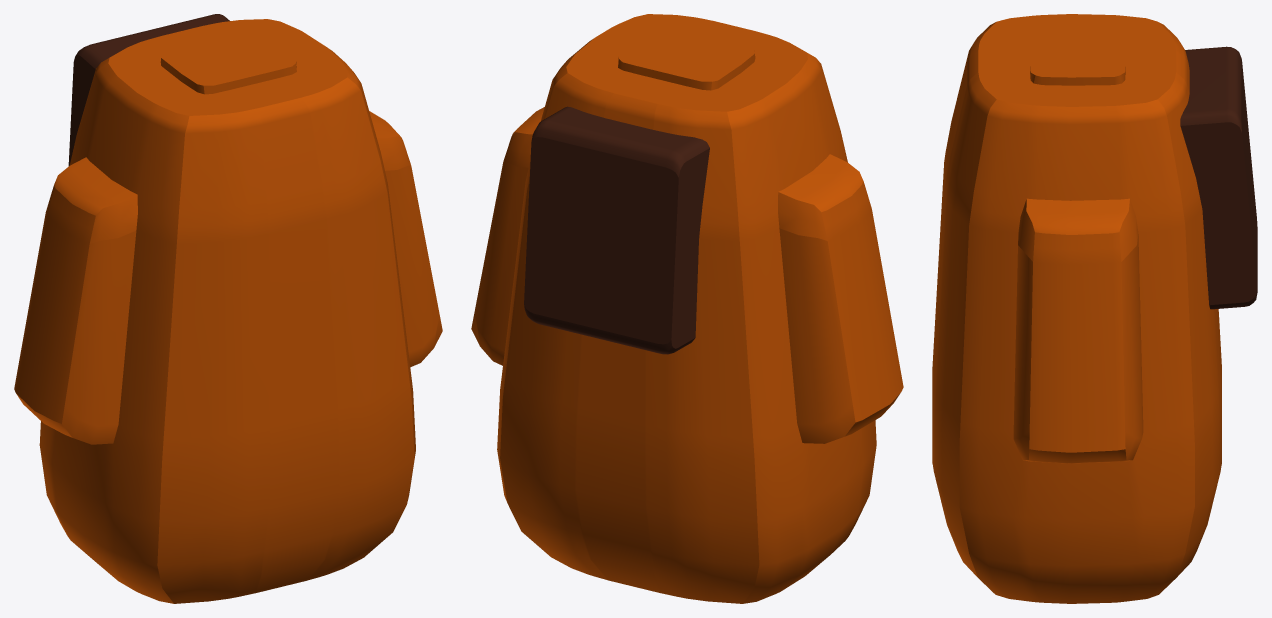
File: evilBroskiBody02.fbx
3 views of the same model, side by side, from view 1: azimuth 30°, elevation 25°; view 2: azimuth 150°, elevation 25°; view 3: azimuth 270°, elevation 25° (orthographic).
Parts seen in each view (by area): view 1: evilBroskiBody, evilBroskiBackpack; view 2: evilBroskiBody, evilBroskiBackpack; view 3: evilBroskiBody, evilBroskiBackpack.
Part boxes in pixels (bbox=[...]): evilBroskiBody: bbox=[14, 19, 442, 603]; evilBroskiBackpack: bbox=[68, 14, 229, 165]; evilBroskiBody: bbox=[471, 14, 903, 603]; evilBroskiBackpack: bbox=[524, 106, 709, 354]; evilBroskiBody: bbox=[932, 14, 1221, 603]; evilBroskiBackpack: bbox=[1180, 46, 1257, 309].
Size of the model in its own units: 42.1 by 50.02 by 29.74.
